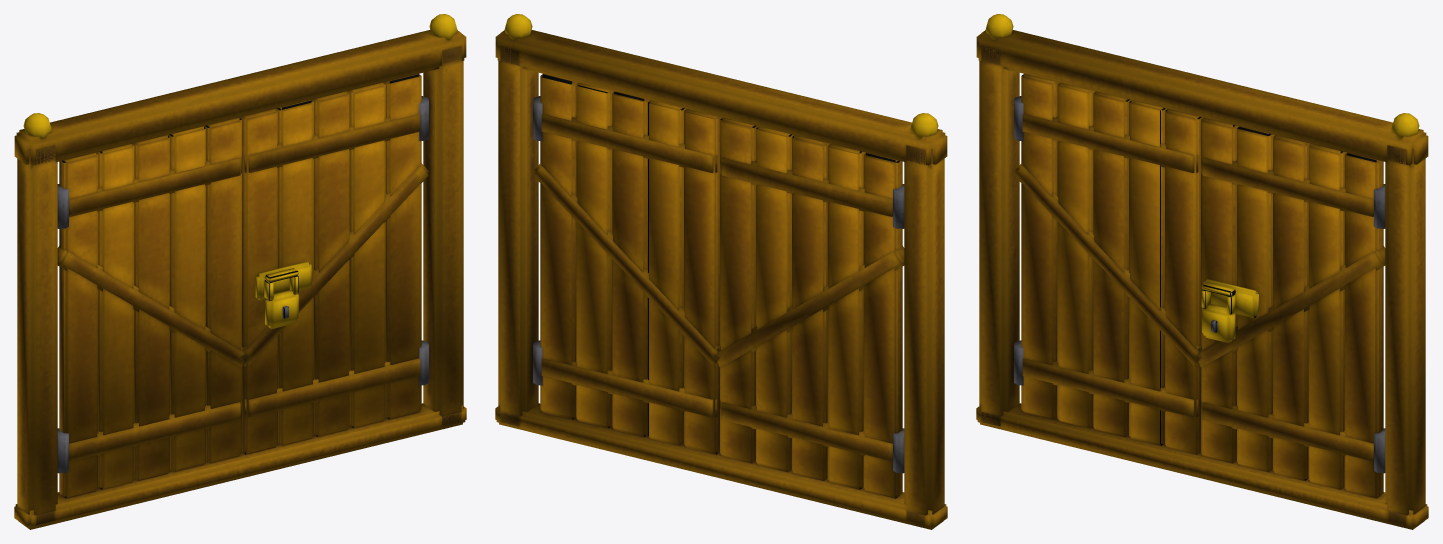
Rendered from GangwayGate.fbx.
3 renders of one model, left to right at view 1: azimuth 30°, elevation 25°; view 2: azimuth 150°, elevation 25°; view 3: azimuth 330°, elevation 25°, orthographic.
Visible parts, largest first — view 1: LeafLeft, LeafRight, Frame; view 2: LeafLeft, LeafRight, Frame; view 3: LeafRight, LeafLeft, Frame.
Part boxes in pixels (x1=…): LeafLeft: x1=57, y1=117, x2=248, y2=498; LeafRight: x1=239, y1=74, x2=428, y2=454; Frame: x1=14, y1=14, x2=466, y2=529; LeafLeft: x1=716, y1=117, x2=904, y2=498; LeafRight: x1=533, y1=74, x2=722, y2=454; Frame: x1=495, y1=14, x2=947, y2=529; LeafRight: x1=1197, y1=117, x2=1385, y2=498; LeafLeft: x1=1014, y1=74, x2=1203, y2=454; Frame: x1=976, y1=14, x2=1428, y2=529.
Size of the model in its own units: 2.45 by 2.17 by 0.25.
